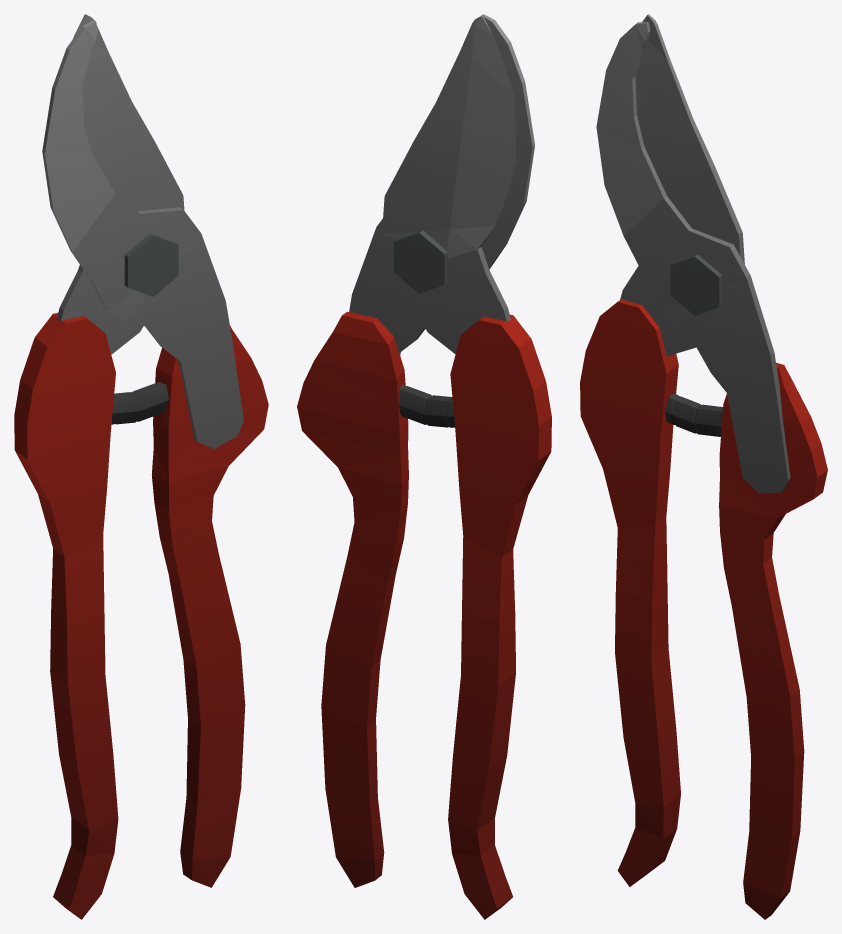
Rendered from Tool_Pruning_Shear_01.obj.
3 renders of one model, left to right at view 1: azimuth 30°, elevation 25°; view 2: azimuth 150°, elevation 25°; view 3: azimuth 330°, elevation 25°, orthographic. The views are drawn at different scales.
Visible parts, largest first — view 1: Tool_Pruning_Shear_Right_01, Tool_Pruning_Shear_Left_01, Tool_Pruning_Shear_01; view 2: Tool_Pruning_Shear_Left_01, Tool_Pruning_Shear_Right_01, Tool_Pruning_Shear_01; view 3: Tool_Pruning_Shear_Right_01, Tool_Pruning_Shear_Left_01, Tool_Pruning_Shear_01.
Boxes of the visible parts, x1=… form: Tool_Pruning_Shear_Right_01: x1=42, y1=20, x2=268, y2=887; Tool_Pruning_Shear_Left_01: x1=14, y1=14, x2=184, y2=919; Tool_Pruning_Shear_01: x1=111, y1=233, x2=178, y2=424; Tool_Pruning_Shear_Left_01: x1=382, y1=15, x2=551, y2=919; Tool_Pruning_Shear_Right_01: x1=297, y1=14, x2=534, y2=887; Tool_Pruning_Shear_01: x1=394, y1=230, x2=454, y2=427; Tool_Pruning_Shear_Right_01: x1=596, y1=22, x2=827, y2=919; Tool_Pruning_Shear_Left_01: x1=580, y1=14, x2=744, y2=886; Tool_Pruning_Shear_01: x1=665, y1=254, x2=722, y2=436.
Bounding box in the file's own units: 0.0687 × 0.2435 × 0.00964.
Materials: 1 (1 with a texture image).
